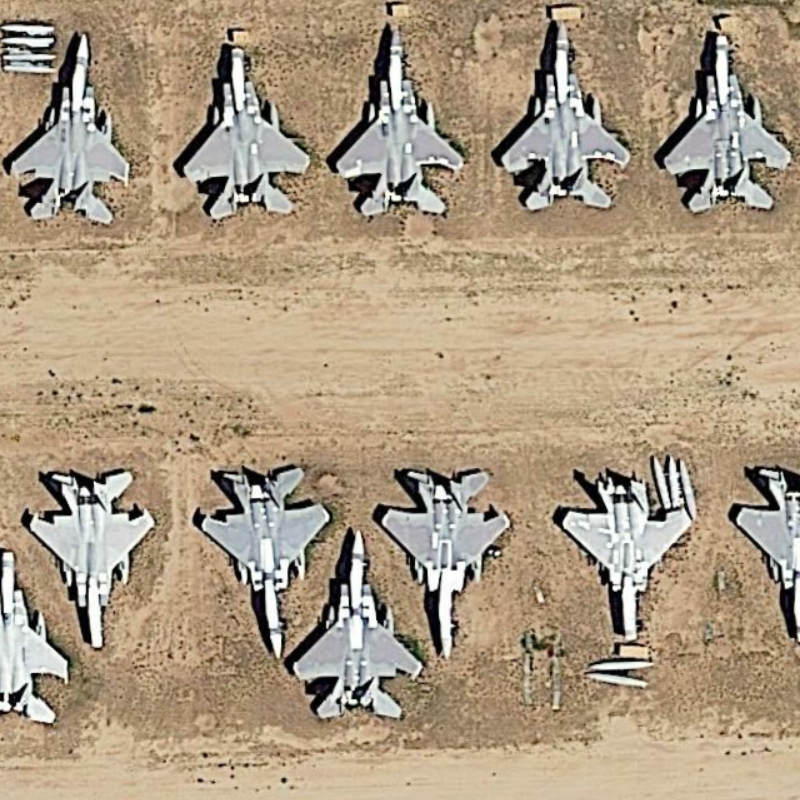A13: (189, 452, 332, 669), (326, 17, 475, 221), (175, 22, 319, 223), (374, 452, 514, 656), (4, 24, 140, 233), (550, 462, 701, 649), (654, 22, 798, 216), (289, 523, 428, 723), (20, 457, 157, 655), (498, 9, 631, 211)
